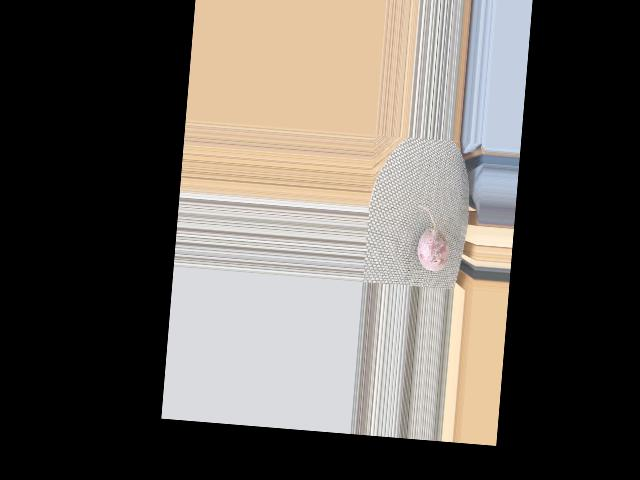beet: (412, 204, 453, 271)
